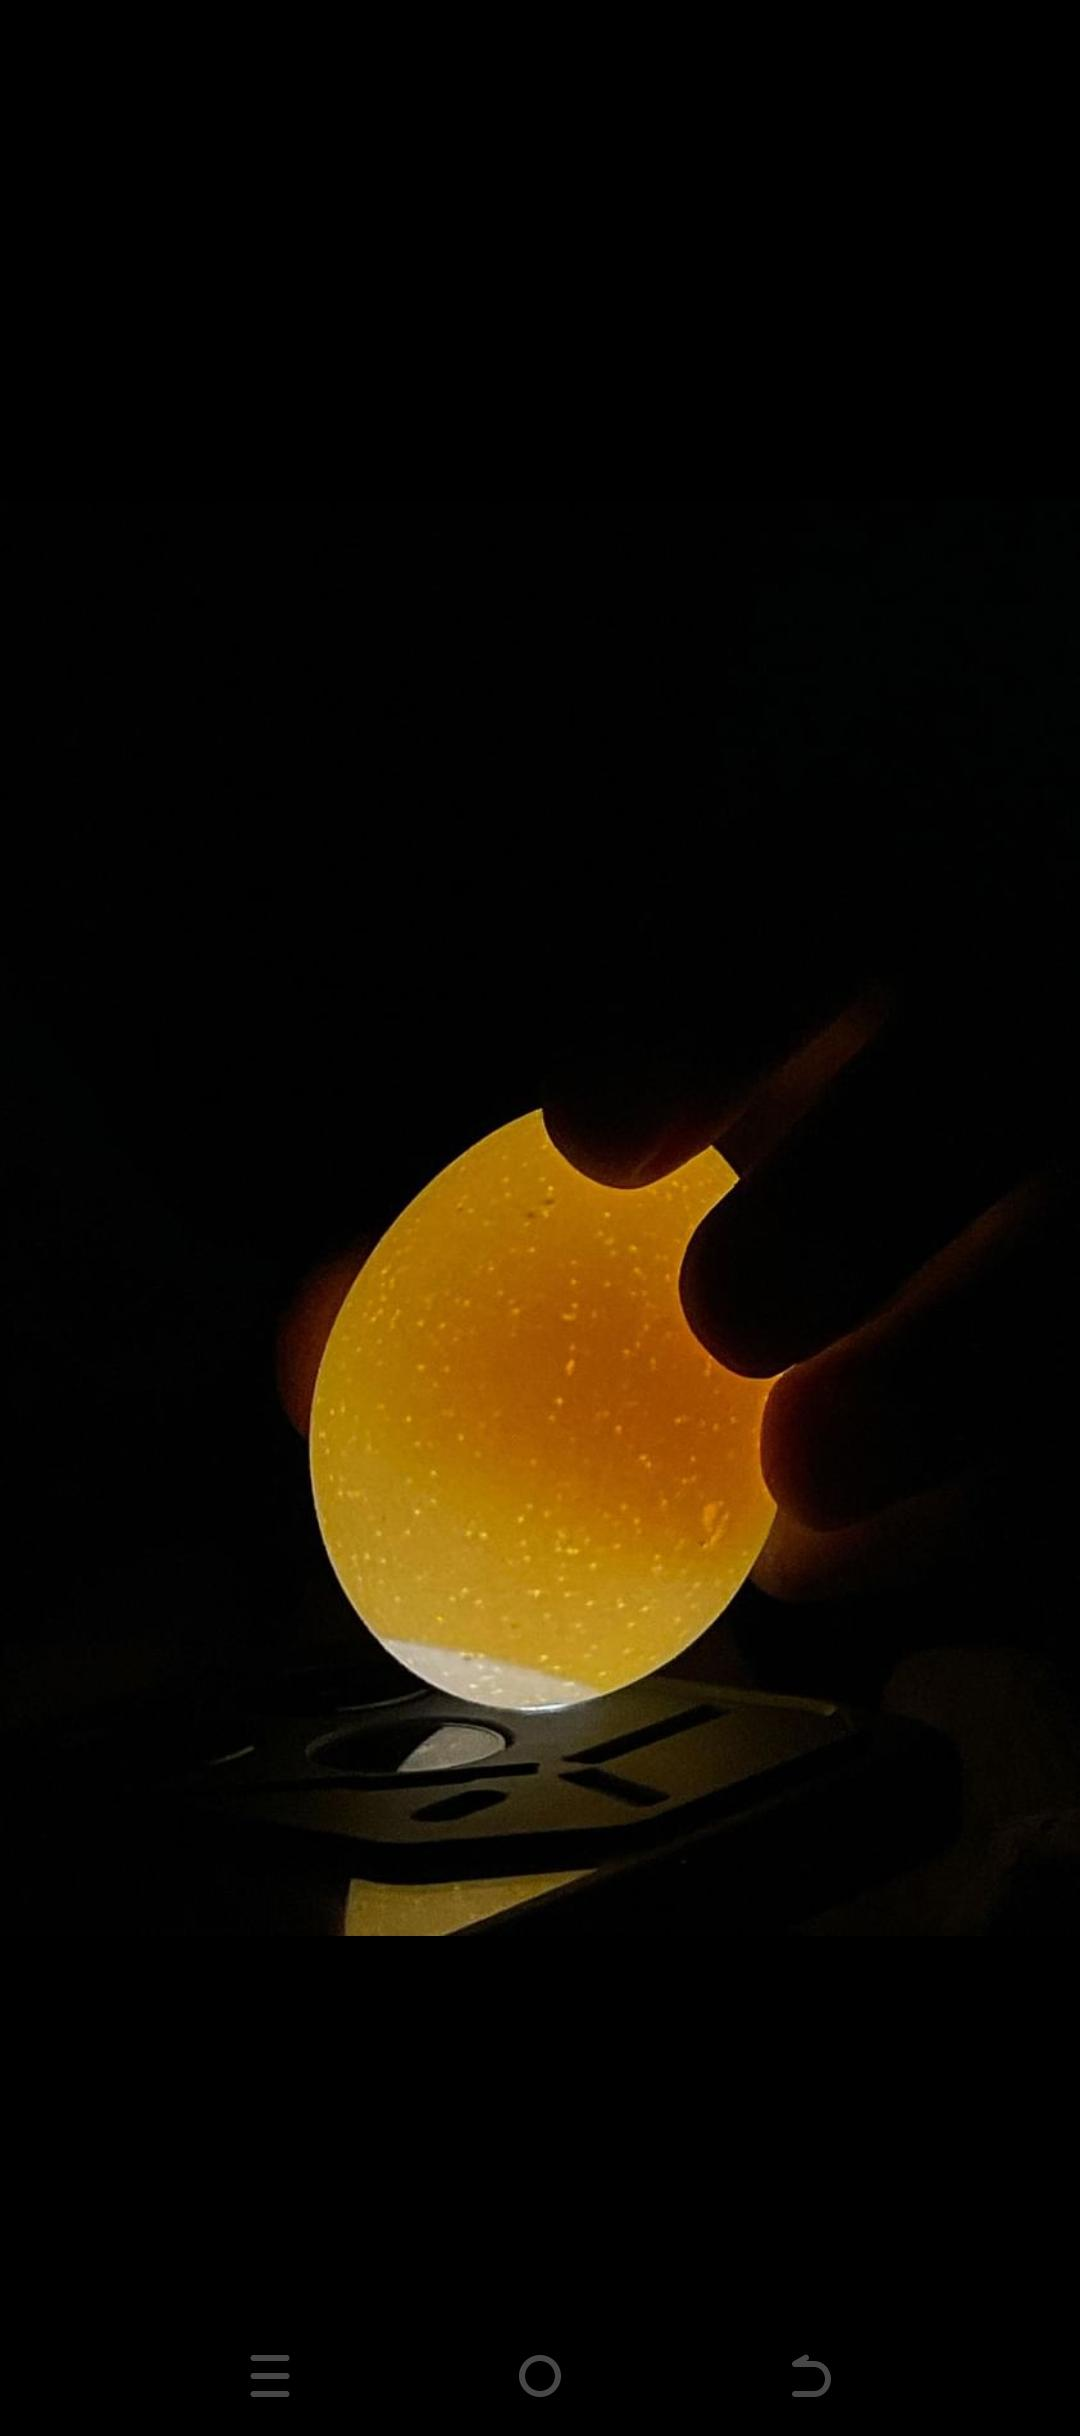A - Good: (283, 1050, 807, 1749)
